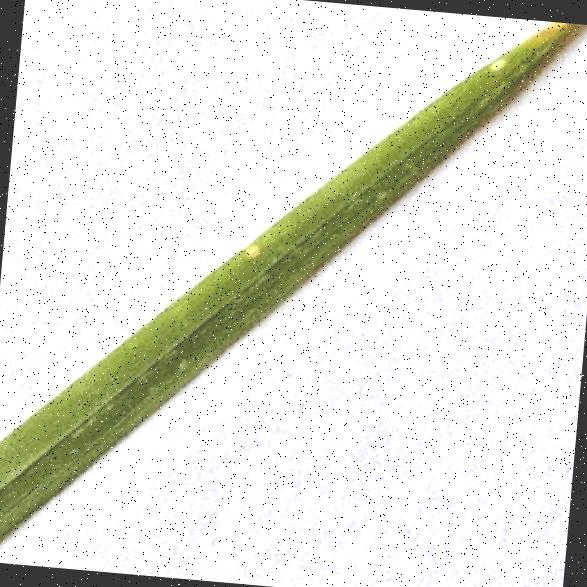Leaf_smut: (235, 226, 272, 268)
